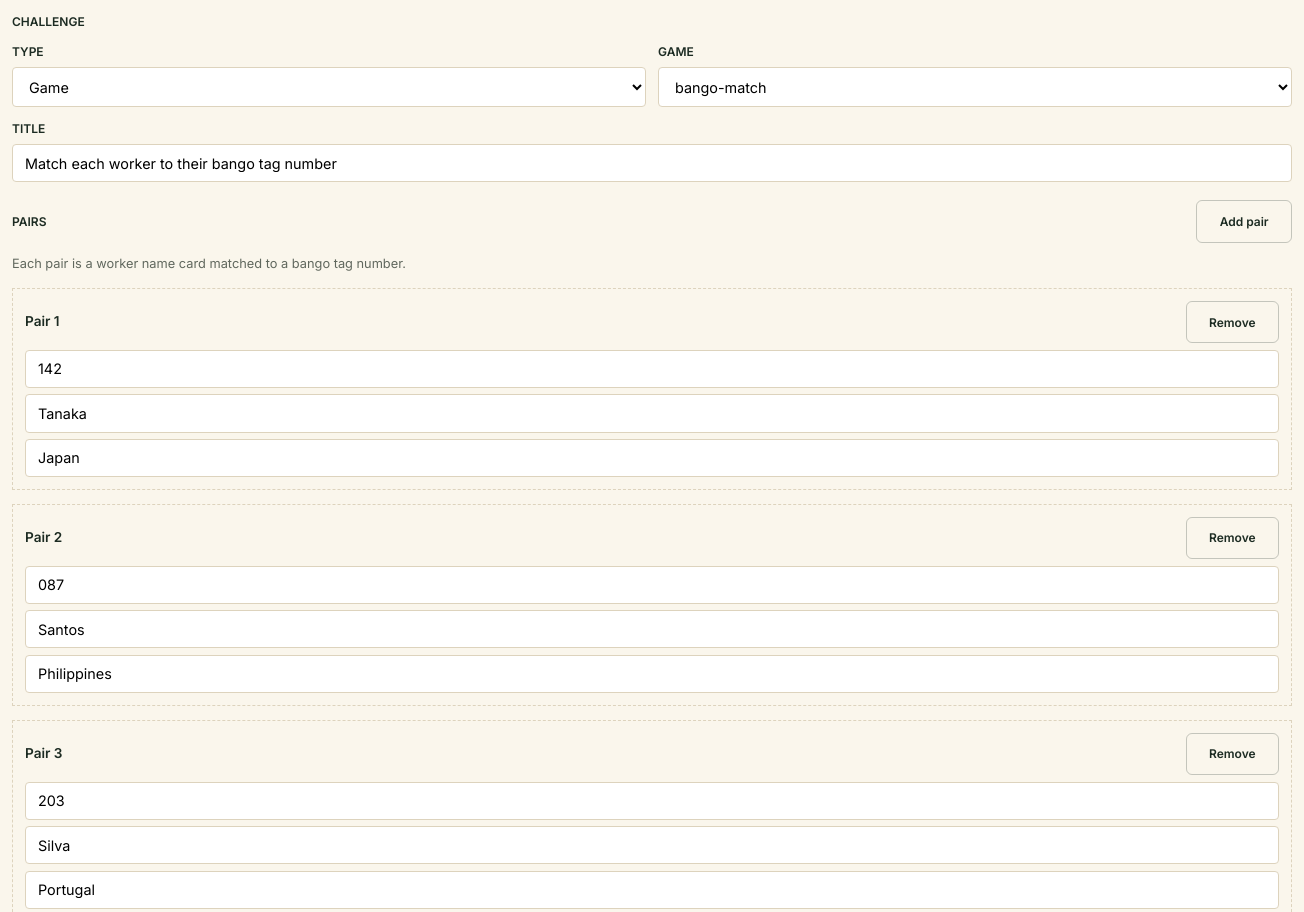
Test case: ChallengeFields UI › shows coming-soon note for camp-map
The image size is (1304, 912).
Select "camp-map" in the dropdown named "game id". click: [975, 87]
box: [658,67,1292,107]
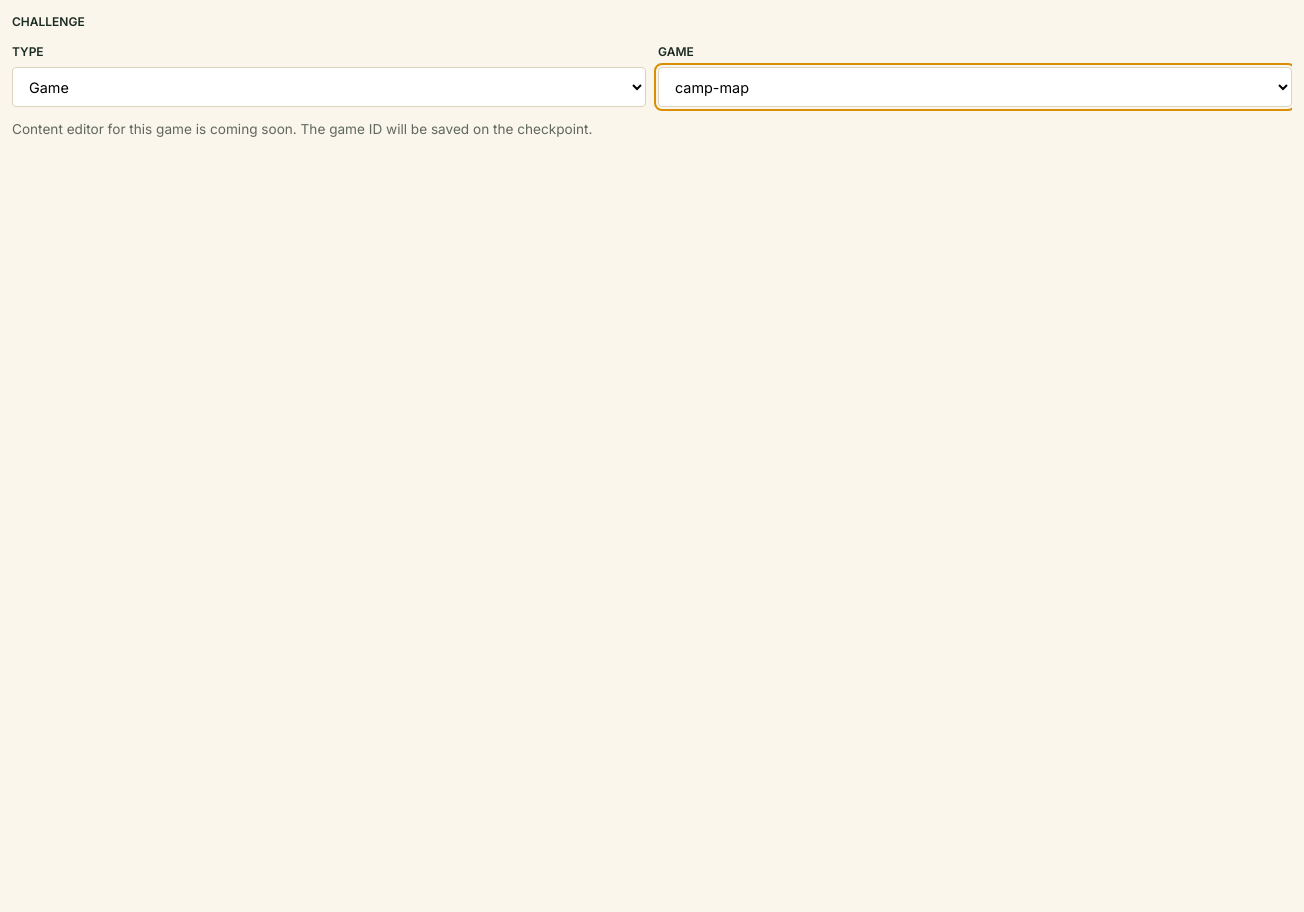
Result: the text "Content editor for this game is coming soon" is shown at [12,121,592,137]
